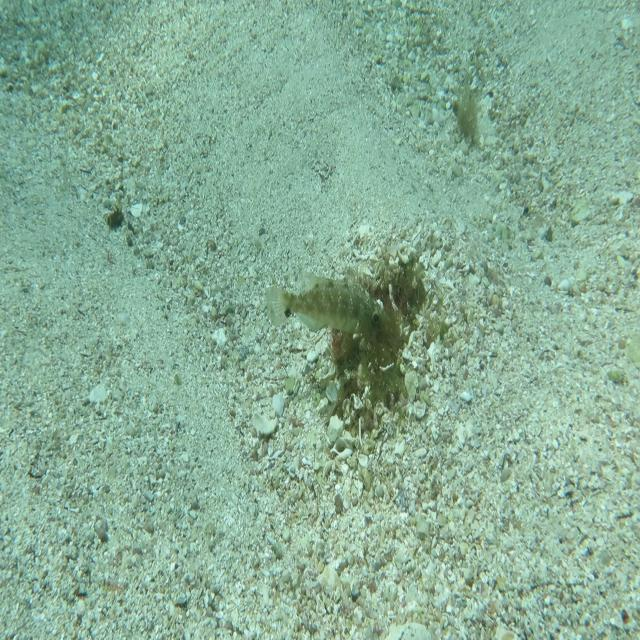MAN: (265, 267, 391, 335)
nest: (308, 225, 428, 416)
vegetation: (454, 81, 478, 140), (104, 207, 124, 230)
